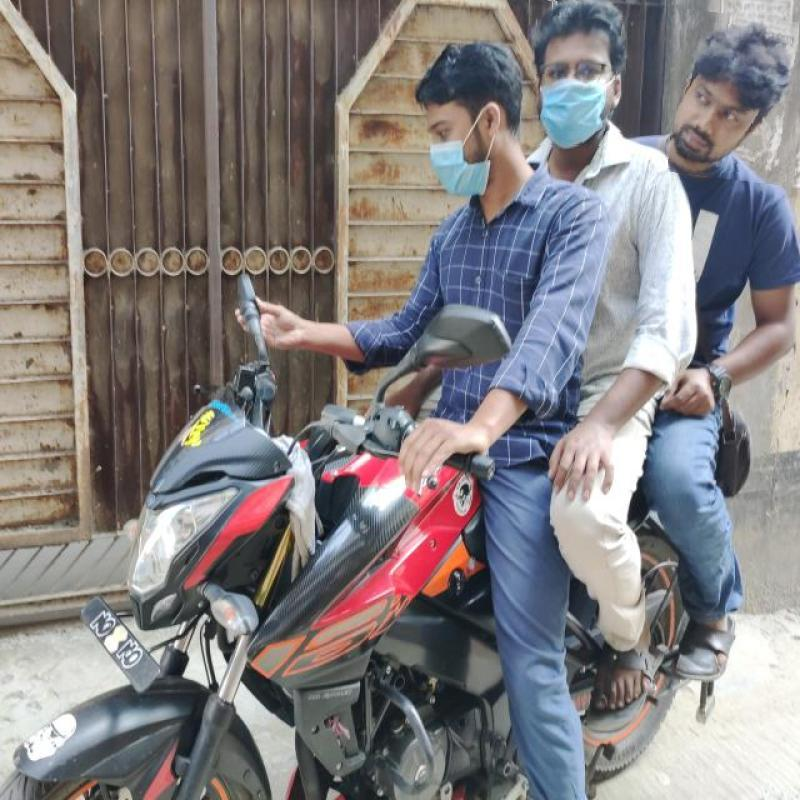nohelmet: (672, 12, 800, 183), (409, 39, 522, 206), (532, 2, 634, 146)
